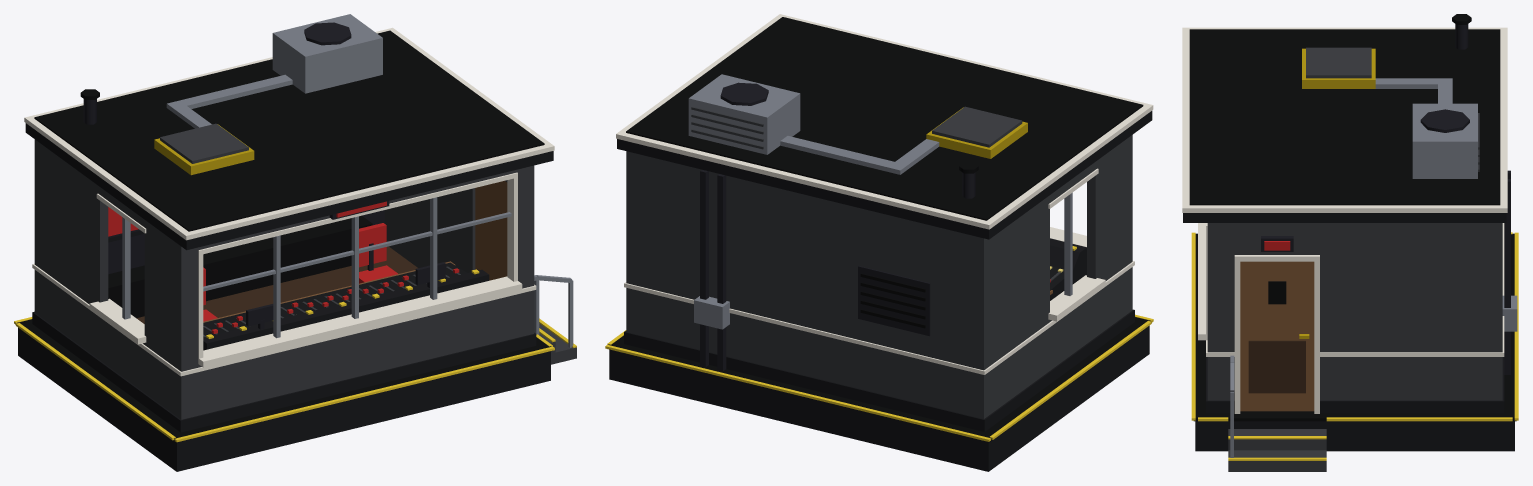
File: control-room.glb
3 renders of one model, left to right at view 1: azimuth 30°, elevation 25°; view 2: azimuth 150°, elevation 25°; view 3: azimuth 270°, elevation 25°, orthographic.
Visible parts, largest first — view 1: walls_black_light, roof_black_dark, plinth_black, window_warm_white, roof_mid_grey, monitors_black_dark, walls_black, roof_warm_white, roof_black, console_black, window_mid_grey, plinth_black_dark (+13 smaller); view 2: walls_black_light, roof_black_dark, plinth_black, roof_mid_grey, roof_warm_white, walls_black, walls_soot_black, roof_black, plinth_black_dark, roof_black_light, plinth_lamp_yellow, walls_warm_white (+7 smaller); view 3: roof_black_dark, walls_black_light, door_wood, plinth_black, roof_warm_white, roof_mid_grey, plinth_black_dark, plinth_lamp_yellow, plinth_black_light, roof_black, walls_black, door_dark_wood (+10 smaller).
Boxes of the visible parts, <box> form: walls_black_light: <box>34,139,534,419</box>; roof_black_dark: <box>34,30,544,231</box>; plinth_black: <box>18,327,550,471</box>; window_warm_white: <box>89,172,522,367</box>; roof_mid_grey: <box>166,14,382,128</box>; monitors_black_dark: <box>108,215,372,318</box>; walls_black: <box>32,311,536,432</box>; roof_warm_white: <box>24,27,554,240</box>; roof_black: <box>25,123,553,250</box>; console_black: <box>203,262,489,350</box>; window_mid_grey: <box>122,197,511,338</box>; plinth_black_dark: <box>16,319,552,442</box>; walls_black_light: <box>626,135,1132,418</box>; roof_black_dark: <box>626,17,1143,220</box>; plinth_black: <box>609,325,1149,471</box>; roof_mid_grey: <box>688,74,939,174</box>; roof_warm_white: <box>616,14,1153,229</box>; walls_black: <box>624,309,1134,431</box>; walls_soot_black: <box>700,169,930,371</box>; roof_black: <box>617,111,1152,239</box>; plinth_black_dark: <box>609,317,1150,441</box>; roof_black_light: <box>691,106,1022,149</box>; plinth_lamp_yellow: <box>605,314,1153,441</box>; walls_warm_white: <box>624,261,1134,374</box>; roof_black_dark: <box>1189,14,1500,205</box>; walls_black_light: <box>1207,223,1502,400</box>; door_wood: <box>1240,261,1314,411</box>; plinth_black: <box>1195,421,1514,451</box>; roof_warm_white: <box>1182,27,1507,212</box>; roof_mid_grey: <box>1375,78,1477,178</box>; plinth_black_dark: <box>1194,233,1516,421</box>; plinth_lamp_yellow: <box>1191,232,1518,460</box>; plinth_black_light: <box>1228,429,1326,471</box>; roof_black: <box>1183,213,1506,222</box>; walls_black: <box>1206,357,1504,413</box>; door_dark_wood: <box>1248,340,1305,393</box>.
Bounding box in the file's own units: 5.94 × 3.81 × 4.11.
